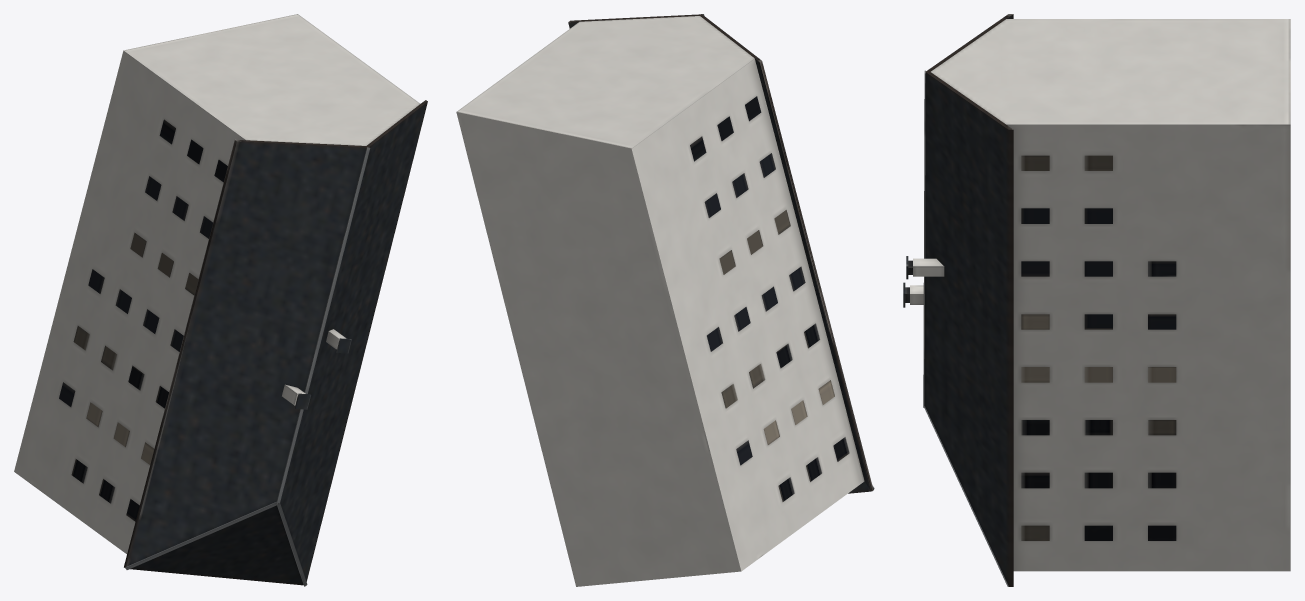
File: house_b0129.obj
3 renders of one model, left to right at view 1: azimuth 30°, elevation 25°; view 2: azimuth 150°, elevation 25°; view 3: azimuth 270°, elevation 25°, orthographic. The views are drawn at different scales.
Parts seen in each view (by area): view 1: house_b0129; view 2: house_b0129; view 3: house_b0129.
Part boxes in pixels (<box>): house_b0129: <box>14,14,427,586</box>; house_b0129: <box>456,14,874,586</box>; house_b0129: <box>903,14,1290,586</box>.
Size of the model in its own units: 19.17 by 27.95 by 18.34.
1 material, 1 textured.
